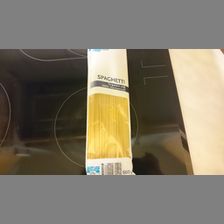pasta: (86, 49, 133, 174)
